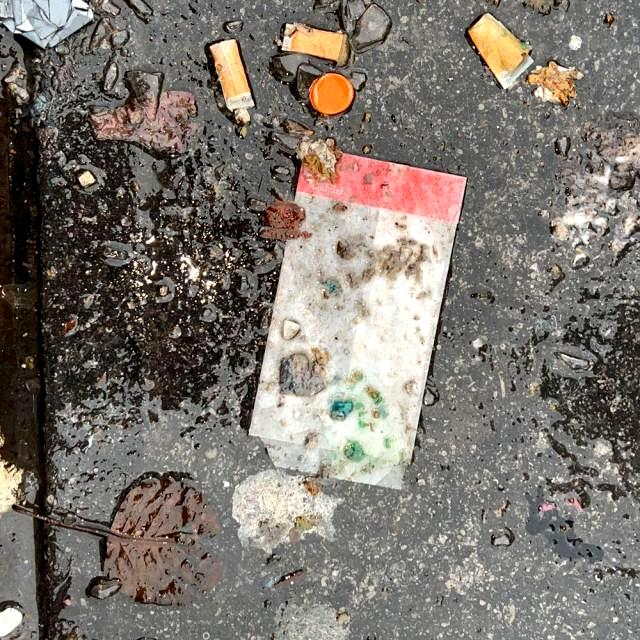Paper: (244, 134, 471, 494)
